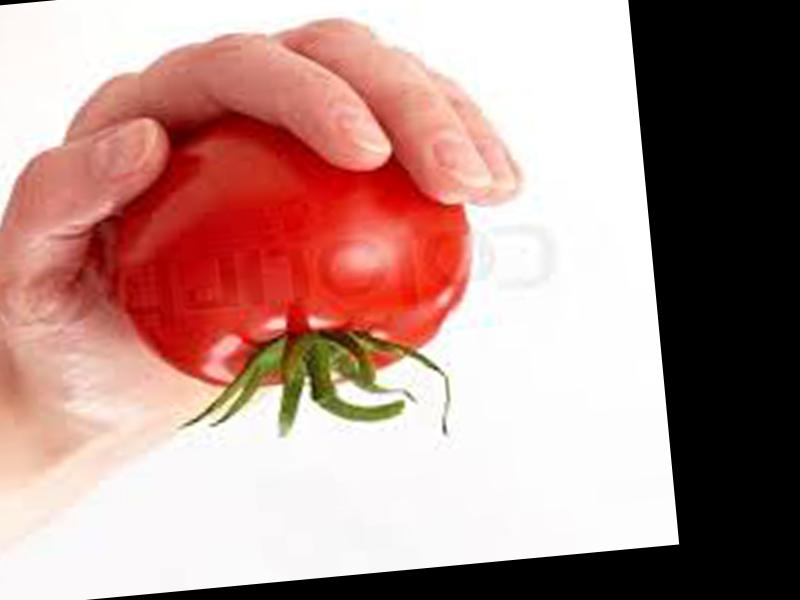Tomato: (107, 97, 482, 403)
